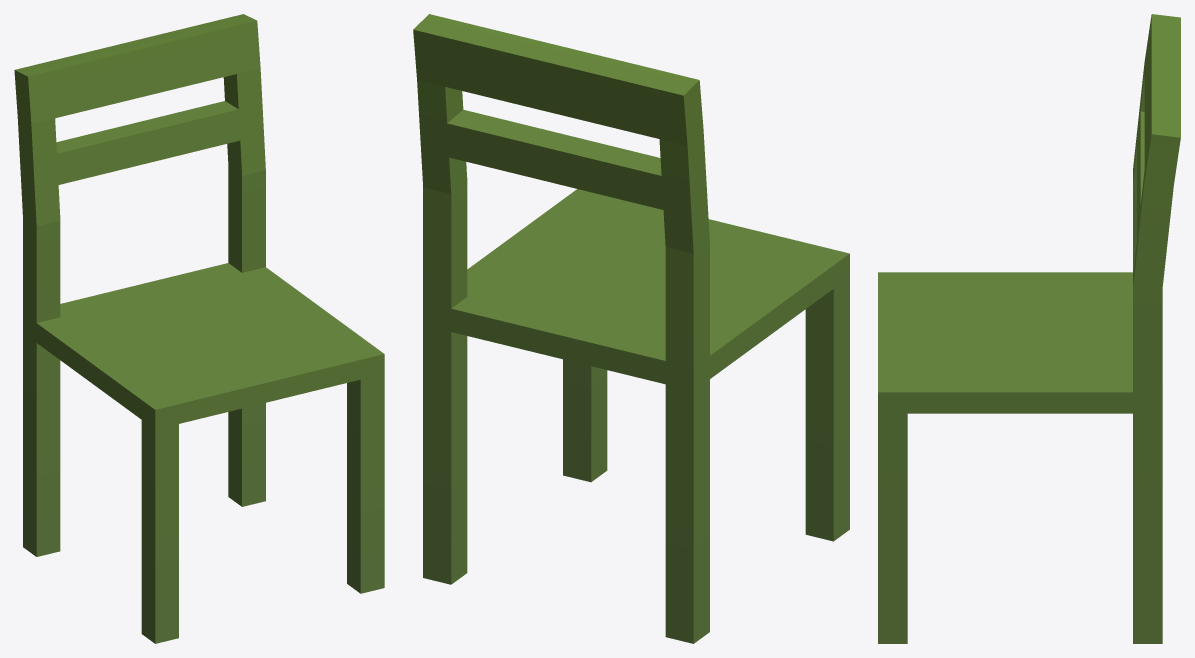
The model's file is Chair_03.fbx.
3 views of the same model, side by side, from view 1: azimuth 30°, elevation 25°; view 2: azimuth 150°, elevation 25°; view 3: azimuth 270°, elevation 25° (orthographic). The views are drawn at different scales.
Visible parts, largest first — view 1: Chair_03; view 2: Chair_03; view 3: Chair_03.
Boxes of the visible parts, left/top/right/bottom form: Chair_03: left=14, top=14, right=384, bottom=643; Chair_03: left=413, top=14, right=849, bottom=643; Chair_03: left=878, top=14, right=1180, bottom=643.
Bounding box in the file's own units: 0.5009 × 0.99 × 0.533.
